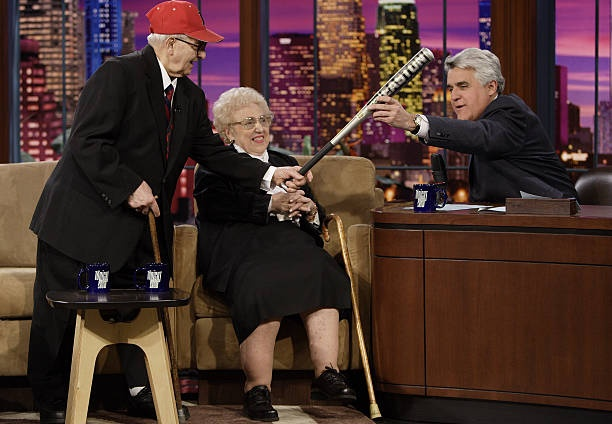bita: (294, 48, 430, 180)
